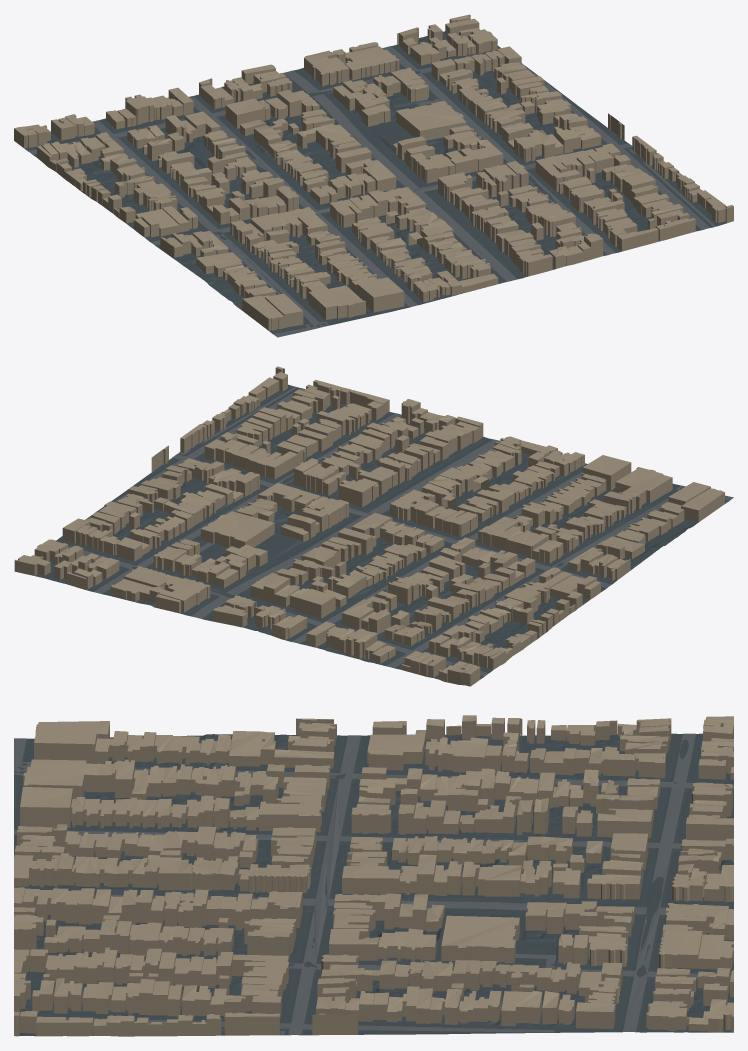
Rendered from epsg26910-1437-10882.lod0.glb.
The picture shows the model from 3 angles, top to bottom: view 1: azimuth 30°, elevation 25°; view 2: azimuth 150°, elevation 25°; view 3: azimuth 270°, elevation 25°; orthographic projection. The views are drawn at different scales.
Parts seen in each view (by area): view 1: epsg26910-1437-10882-lod0; view 2: epsg26910-1437-10882-lod0; view 3: epsg26910-1437-10882-lod0.
Part boxes in pixels (x1,y1,x2,y2): epsg26910-1437-10882-lod0: (14,14,733,337); epsg26910-1437-10882-lod0: (14,366,733,686); epsg26910-1437-10882-lod0: (14,715,733,1036).
Bounding box in the file's own units: 384 × 19.16 × 384.
